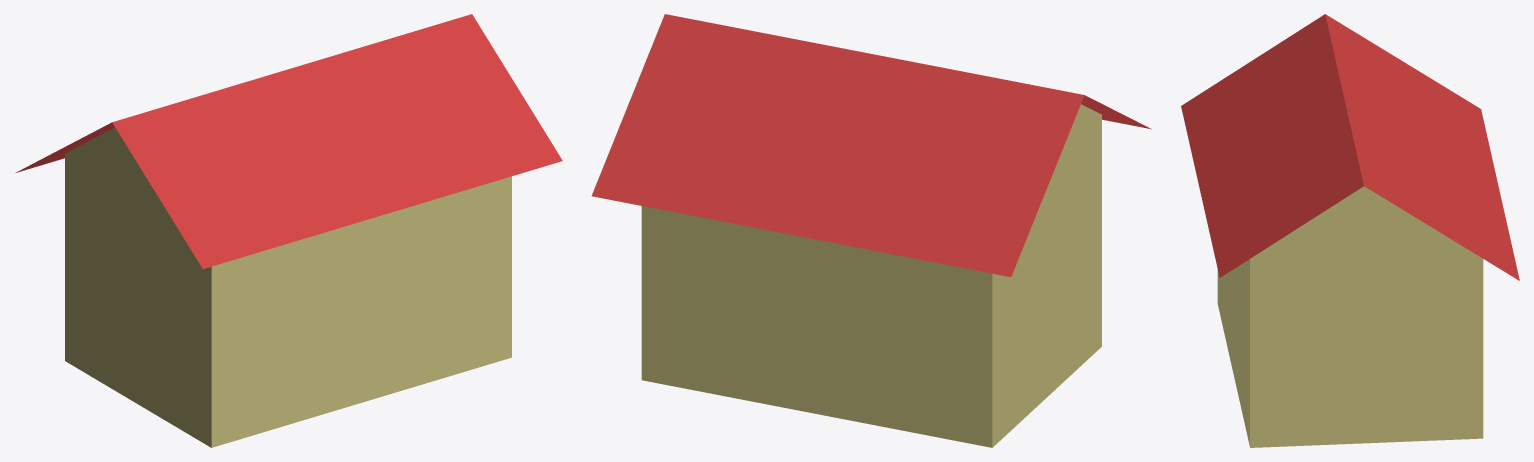
The picture shows the model from 3 angles, left to right: view 1: azimuth 30°, elevation 25°; view 2: azimuth 150°, elevation 25°; view 3: azimuth 270°, elevation 25°; orthographic projection. The views are drawn at different scales.
Size of the model in its own units: 12.93 by 10.05 by 8.89.
